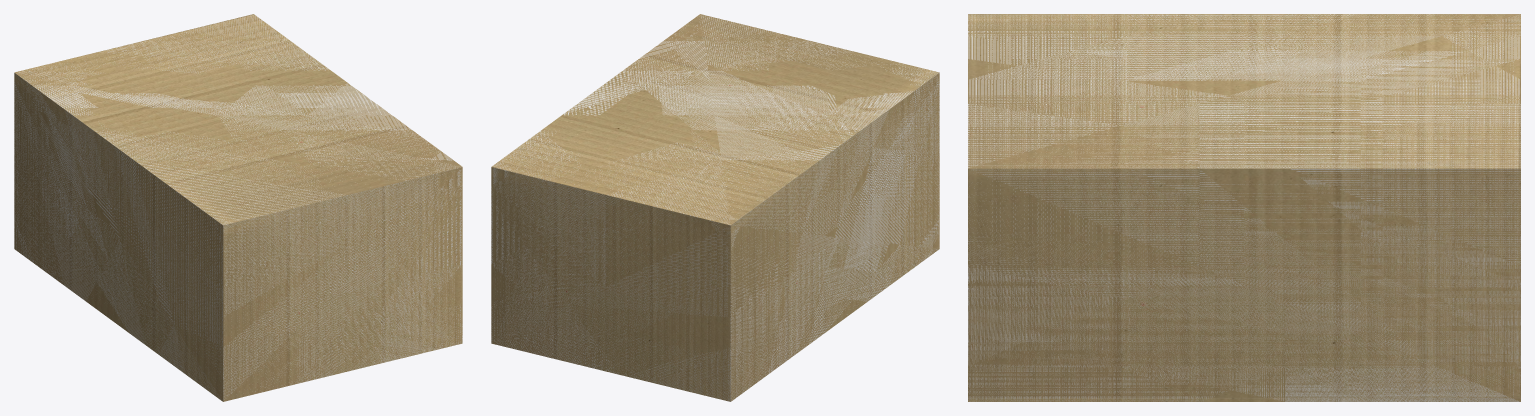
The model's file is corrogated_box.dae.
3 renders of one model, left to right at view 1: azimuth 30°, elevation 25°; view 2: azimuth 150°, elevation 25°; view 3: azimuth 270°, elevation 25°, orthographic. The views are drawn at different scales.
Parts seen in each view (by area): view 1: SketchUp (×3); view 2: SketchUp (×3); view 3: SketchUp (×2).
Part boxes in pixels (box(x1,y1,x2,y2)): SketchUp (×3): box(14, 14, 462, 401); SketchUp (×3): box(491, 14, 939, 401); SketchUp (×2): box(968, 14, 1520, 401).
Size of the model in its own units: 0.1983 by 0.2995 by 0.1396.
6 materials, 5 textured.
